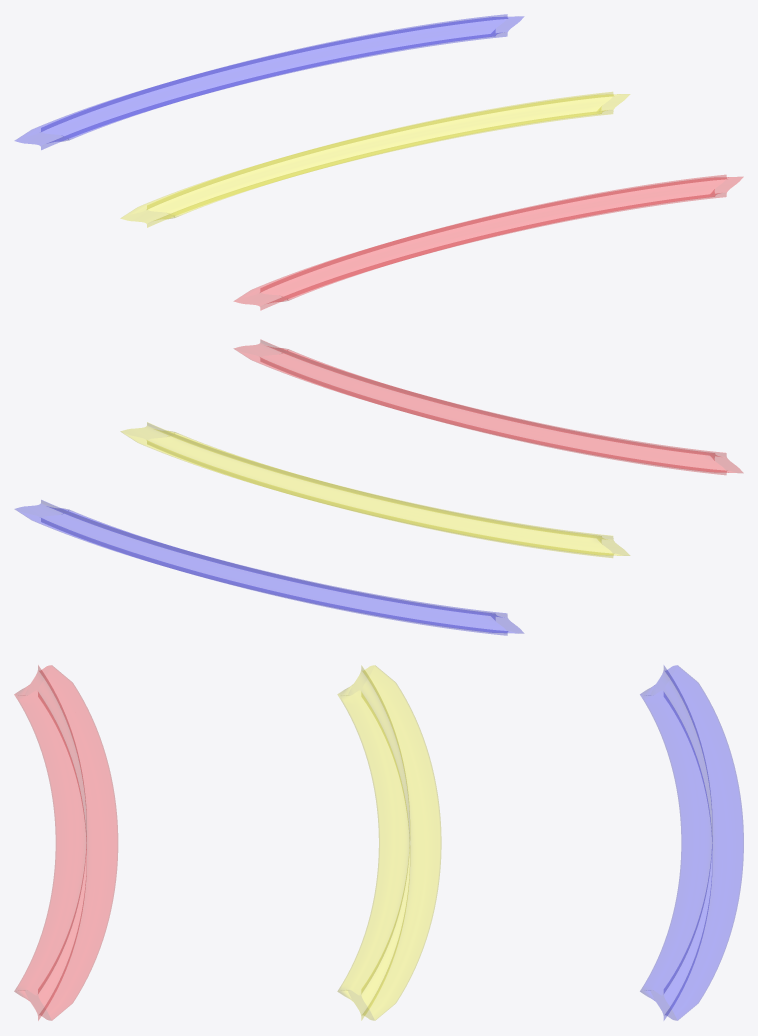
3 views of the same model, one above another, from view 1: azimuth 30°, elevation 25°; view 2: azimuth 150°, elevation 25°; view 3: azimuth 270°, elevation 25° (orthographic). The views are drawn at different scales.
Parts seen in each view (by area): view 1: NurbsCurve.002, NurbsCurve.001, NurbsCurve; view 2: NurbsCurve.002, NurbsCurve.001, NurbsCurve; view 3: NurbsCurve.002, NurbsCurve, NurbsCurve.001.
Boxes of the visible parts, x1=… form: NurbsCurve.002: x1=15, y1=14, x2=523, y2=149; NurbsCurve.001: x1=234, y1=175, x2=742, y2=309; NurbsCurve: x1=121, y1=92, x2=629, y2=227; NurbsCurve.002: x1=15, y1=500, x2=523, y2=635; NurbsCurve.001: x1=234, y1=340, x2=742, y2=474; NurbsCurve: x1=121, y1=422, x2=629, y2=557; NurbsCurve.002: x1=640, y1=665, x2=743, y2=1020; NurbsCurve: x1=337, y1=665, x2=441, y2=1020; NurbsCurve.001: x1=14, y1=665, x2=117, y2=1020.
Size of the model in its own units: 173 by 7.28 by 150.
